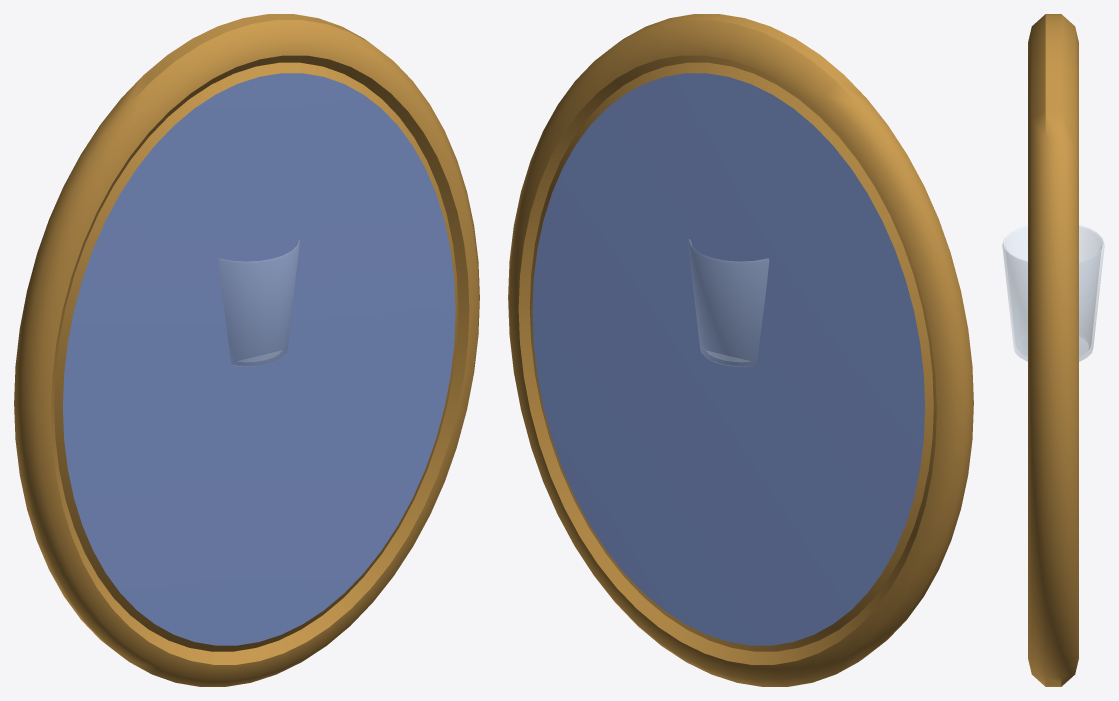
Rendered from items.glb.
3 renders of one model, left to right at view 1: azimuth 30°, elevation 25°; view 2: azimuth 150°, elevation 25°; view 3: azimuth 270°, elevation 25°, orthographic. The views are drawn at different scales.
Parts seen in each view (by area): view 1: Spiegel_Glas, Spiegel, Schnapsglas; view 2: Spiegel_Glas, Spiegel, Schnapsglas; view 3: Spiegel, Schnapsglas.
Part boxes in pixels (x1,y1,x2,y2): Spiegel_Glas: (63,73,455,645); Spiegel: (14,14,479,686); Schnapsglas: (219,239,299,366); Spiegel_Glas: (532,73,924,645); Spiegel: (508,14,973,686); Schnapsglas: (688,239,768,366); Spiegel: (1028,14,1078,686); Schnapsglas: (1002,225,1104,361).
Size of the model in its own units: 0.2592 by 0.3564 by 0.052.
